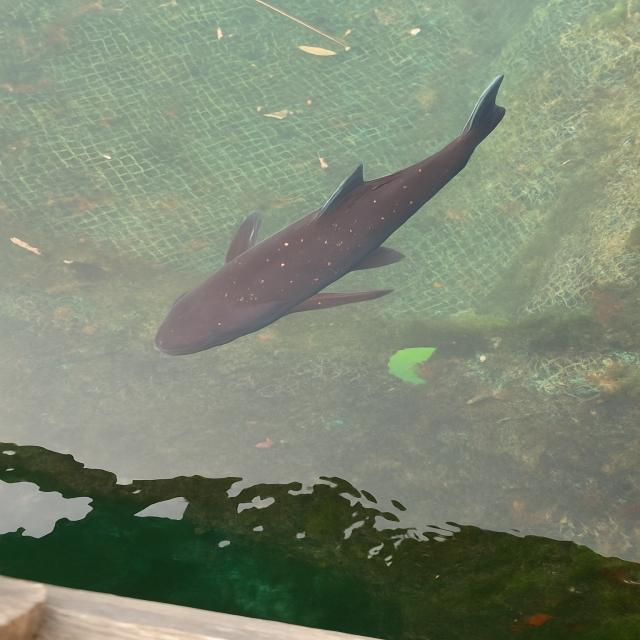ikan: (151, 73, 507, 357)
